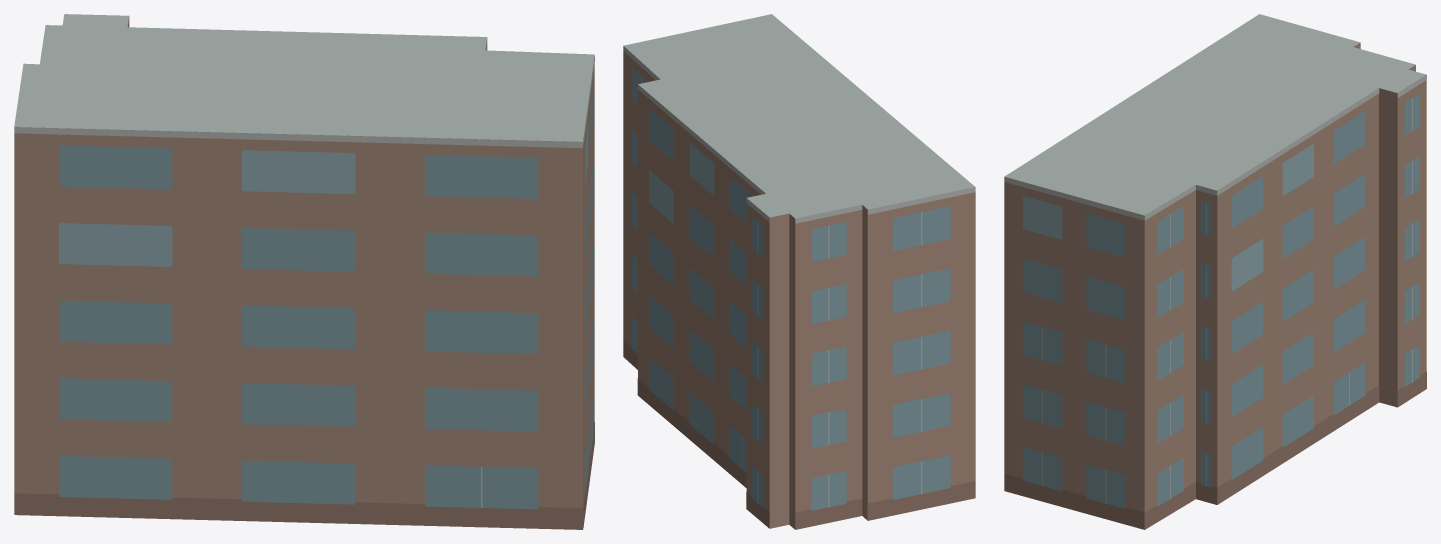
File: survey-upis-32525718.glb
3 renders of one model, left to right at view 1: azimuth 30°, elevation 25°; view 2: azimuth 150°, elevation 25°; view 3: azimuth 270°, elevation 25°, orthographic. The views are drawn at different scales.
Parts seen in each view (by area): view 1: survey-upis-32525718.tmp; view 2: survey-upis-32525718.tmp; view 3: survey-upis-32525718.tmp.
Part boxes in pixels (x1,y1,x2,y2): survey-upis-32525718.tmp: (14,14,594,529); survey-upis-32525718.tmp: (623,14,975,529); survey-upis-32525718.tmp: (1004,14,1426,529).
Bounding box in the file's own units: 20.5 × 14.9 × 18.16.
